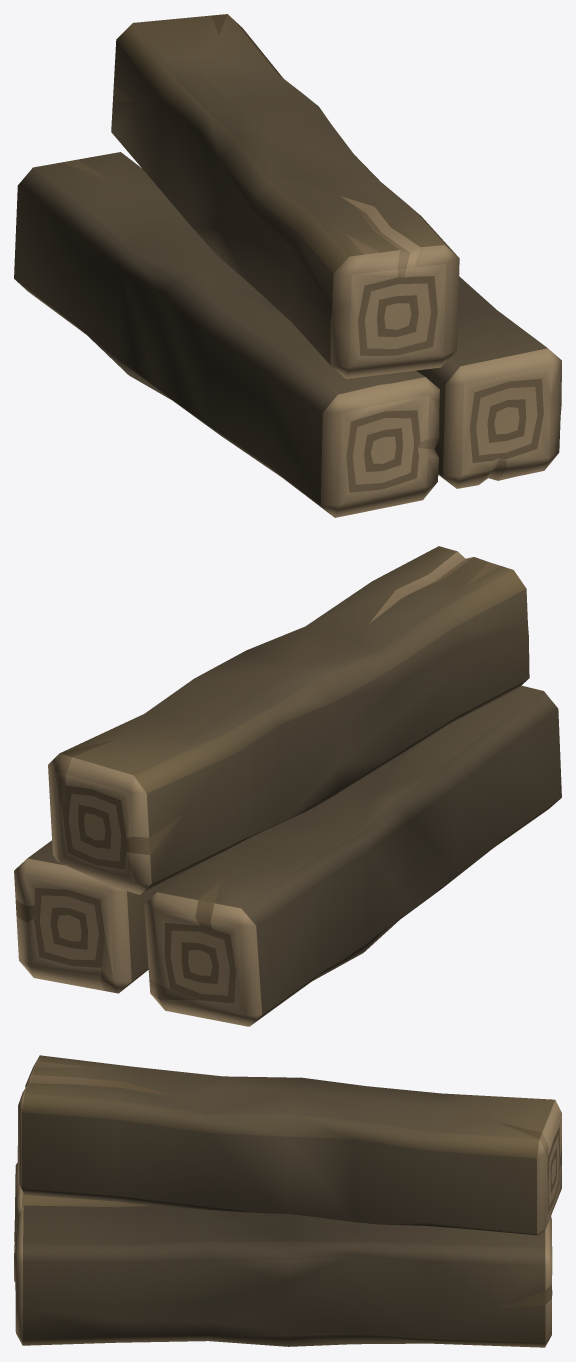
File: resource_wood.fbx
3 views of the same model, one above another, from view 1: azimuth 30°, elevation 25°; view 2: azimuth 150°, elevation 25°; view 3: azimuth 270°, elevation 25° (orthographic). The views are drawn at different scales.
Parts seen in each view (by area): view 1: resource_wood; view 2: resource_wood; view 3: resource_wood.
Boxes of the visible parts, box(x1,y1,x2,y2) form: resource_wood: box(14, 14, 561, 517); resource_wood: box(14, 546, 561, 1026); resource_wood: box(14, 1055, 561, 1347).
Size of the model in its own units: 54.54 by 50.39 by 117.
